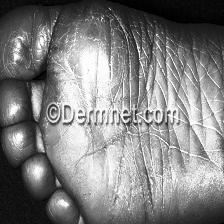Non-Cancerous Skin Condition: (104, 125, 224, 201), (85, 2, 166, 82), (174, 32, 224, 98)
